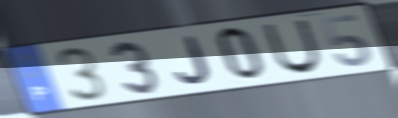0: (215, 24, 269, 84)
3: (55, 45, 109, 104), (109, 39, 159, 97)
5: (318, 12, 373, 68)
J: (174, 35, 213, 86)
U: (260, 18, 324, 76)
